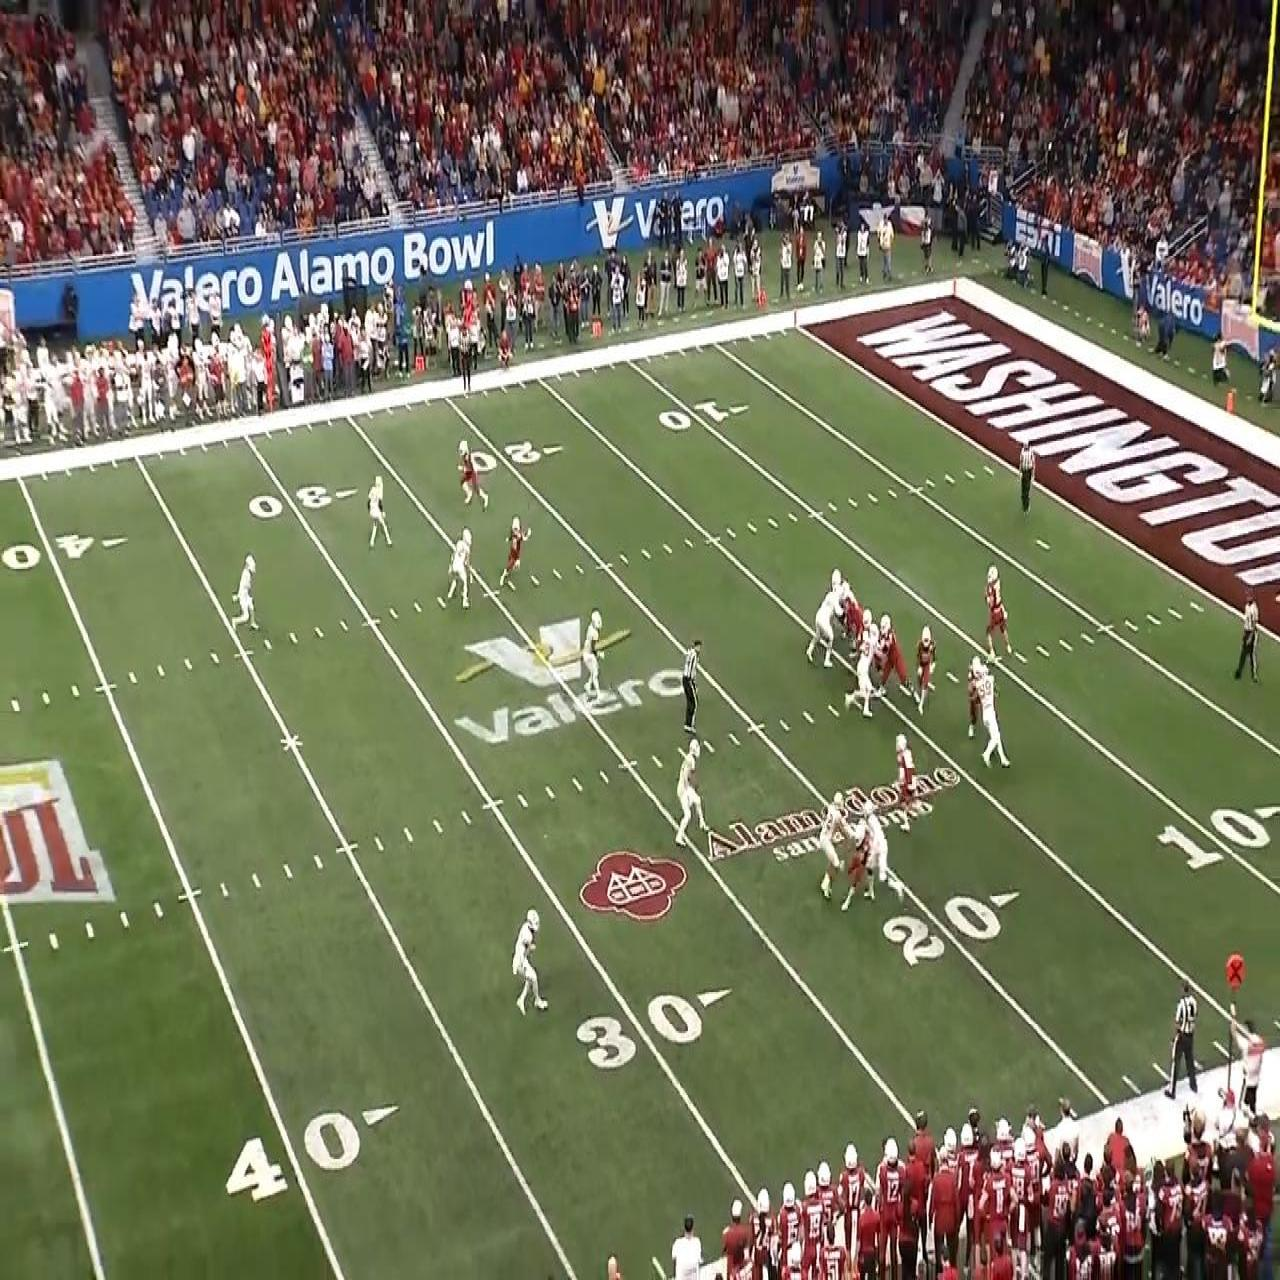10R: (1157, 799, 1280, 870), (658, 397, 751, 435)
20R: (881, 888, 1022, 968), (465, 440, 564, 477)
30R: (576, 982, 735, 1075), (247, 483, 361, 518)
40R: (224, 1099, 400, 1206), (0, 531, 129, 573)
